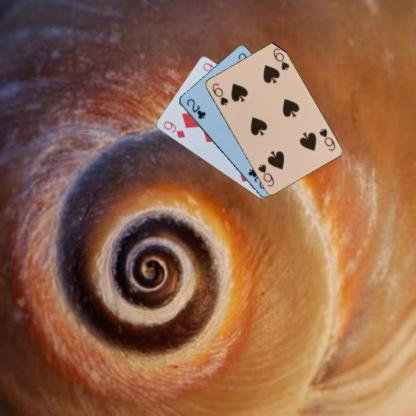2c: (184, 96, 207, 120)
6s: (209, 80, 230, 107), (316, 126, 336, 152)
9d: (161, 118, 186, 140)
